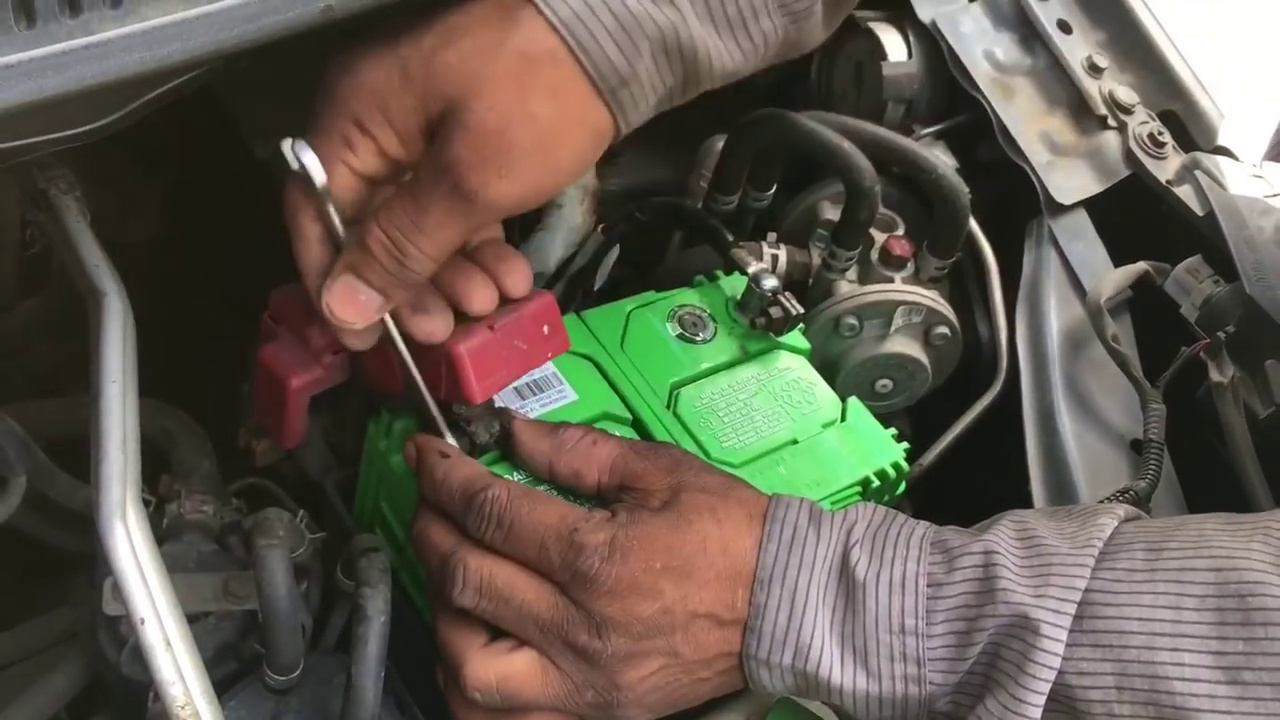battery: (352, 280, 911, 576)
neg_connected: (716, 200, 809, 373)
pos_touched: (308, 138, 578, 584)
